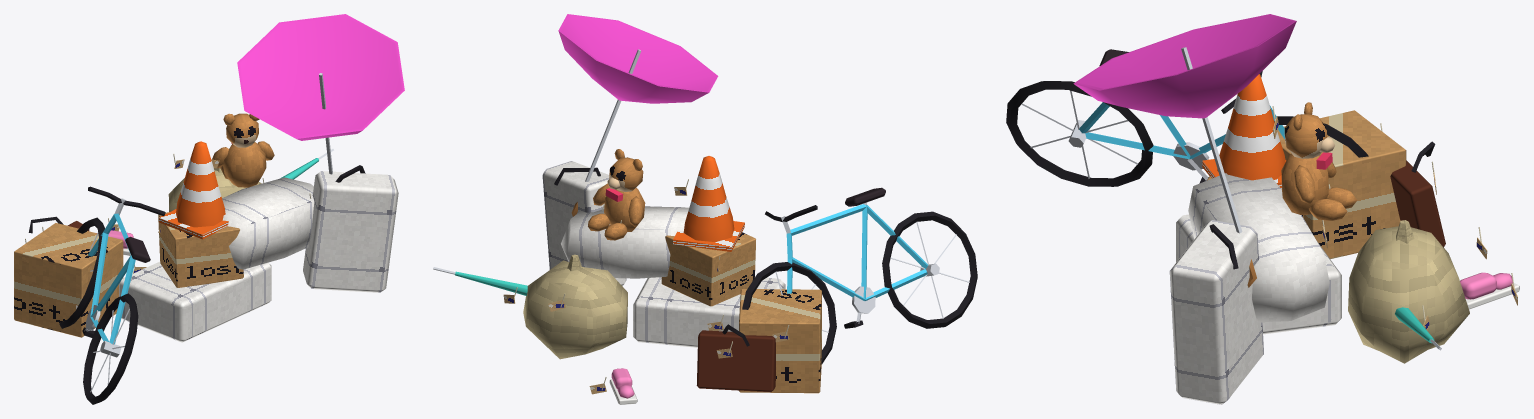
File: s_lostpile.glb
The picture shows the model from 3 angles, left to right: view 1: azimuth 30°, elevation 25°; view 2: azimuth 150°, elevation 25°; view 3: azimuth 270°, elevation 25°; orthographic projection. The views are drawn at different scales.
Visible parts, largest first — view 1: s_lostpile_mesh; view 2: s_lostpile_mesh; view 3: s_lostpile_mesh.
Boxes of the visible parts, bbox=[...] form: s_lostpile_mesh: bbox=[14, 14, 404, 404]; s_lostpile_mesh: bbox=[433, 14, 977, 404]; s_lostpile_mesh: bbox=[1006, 14, 1519, 404].
Size of what is drawn, in the model's own units: 2.54 by 1.65 by 2.19.
4 materials, 4 textured.
